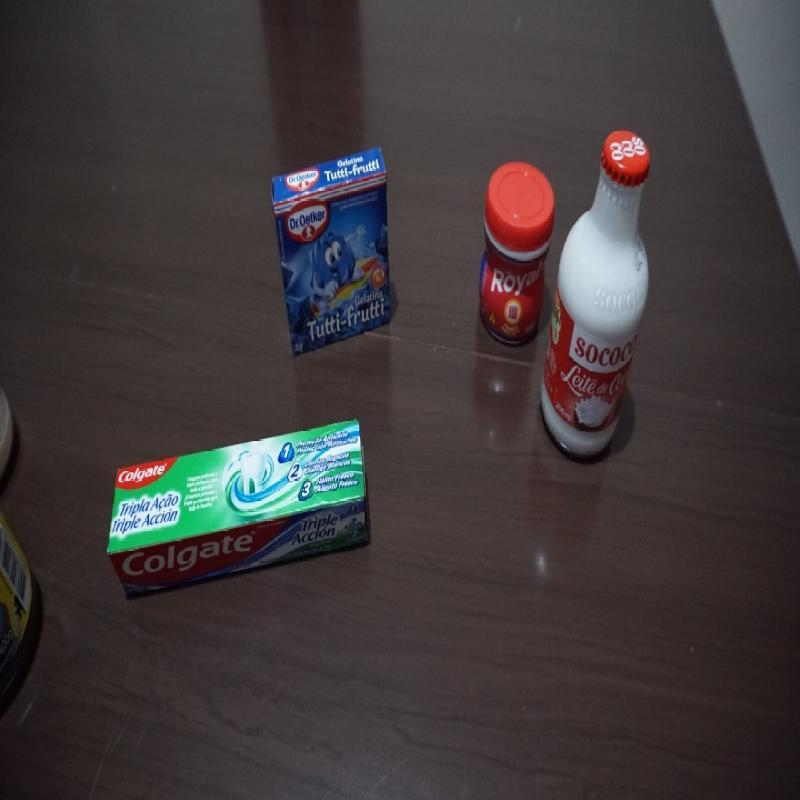Coconut Milk: (543, 123, 648, 458)
Gelatine: (271, 146, 390, 356)
Toothpaste: (108, 419, 374, 590)
Yeast: (482, 162, 556, 349)
